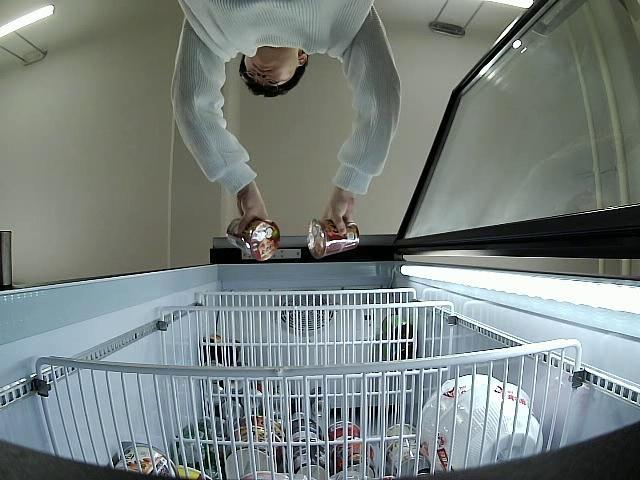06_nuguri_S: (227, 218, 280, 264), (306, 220, 359, 258)
